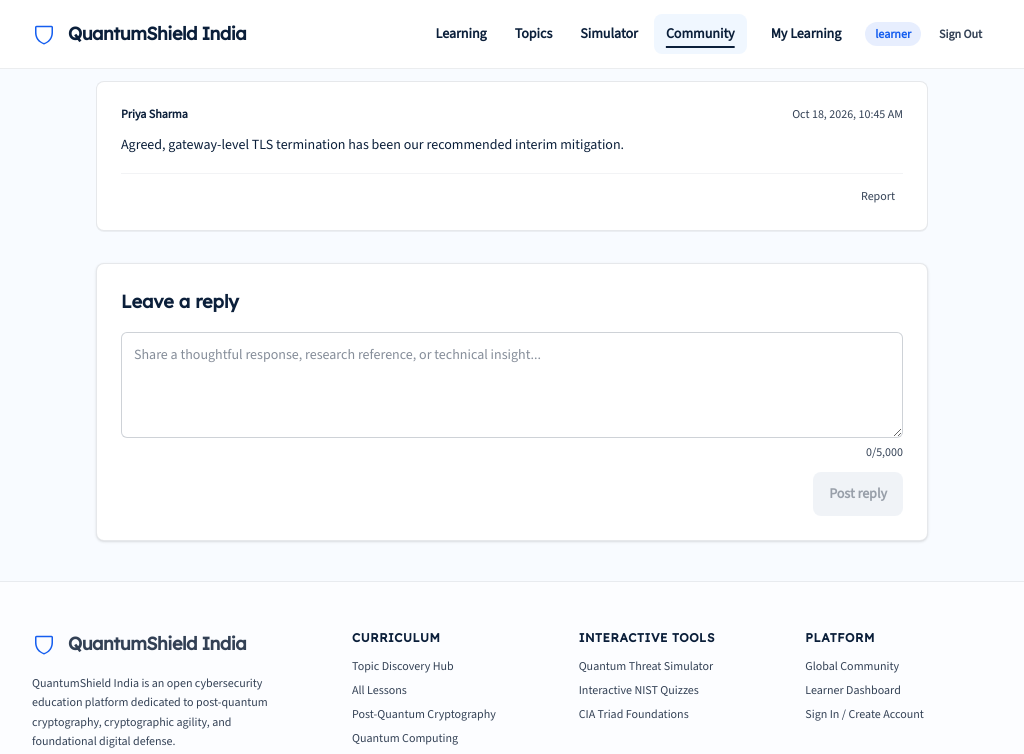
Test case: Global Learning Community Integration Flow › allows authenticated user to submit a reply
(page scrolled)
In the text box with placeholder "Share a thoughtful response": (512, 384) [121, 332, 903, 438], type "We implemented zero trust network access (ZTNA) with mTLS identity certificates for edge gateways."
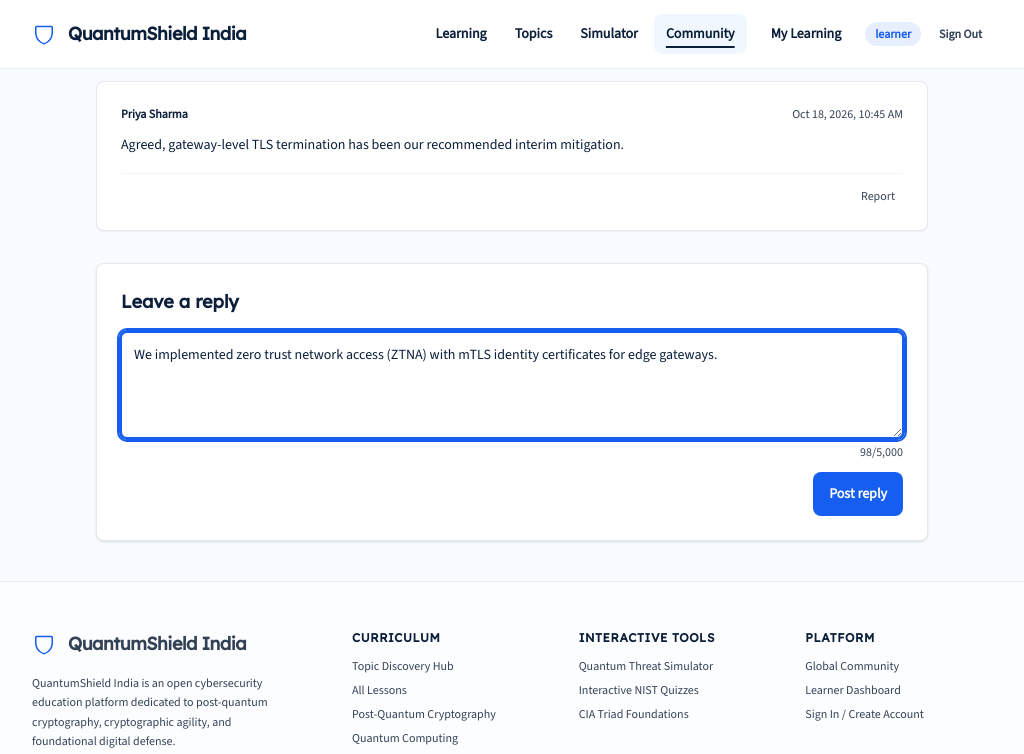
Click the button "Post reply": (858, 494) [813, 472, 903, 516]
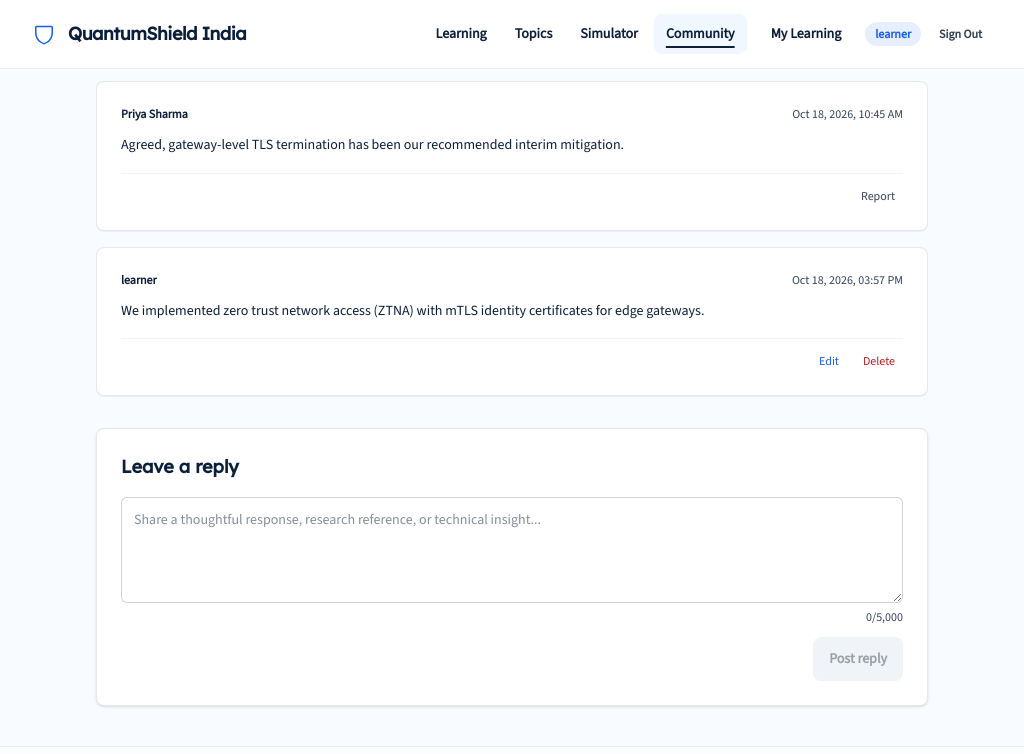
Check: the text "We implemented zero trust network access (ZTNA) with mTLS identity certificates for edge gateways." is shown, box [121, 300, 704, 320]
